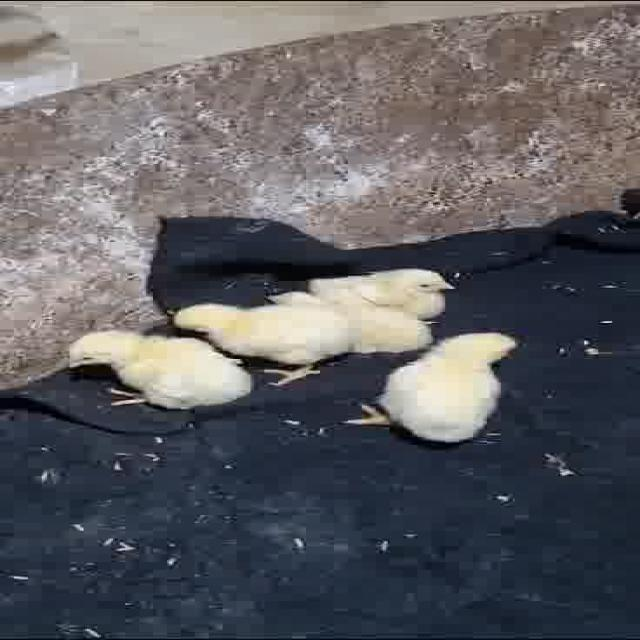poussin: (344, 332, 526, 444), (176, 300, 349, 389), (65, 330, 253, 410), (269, 288, 435, 352), (314, 269, 466, 321)
